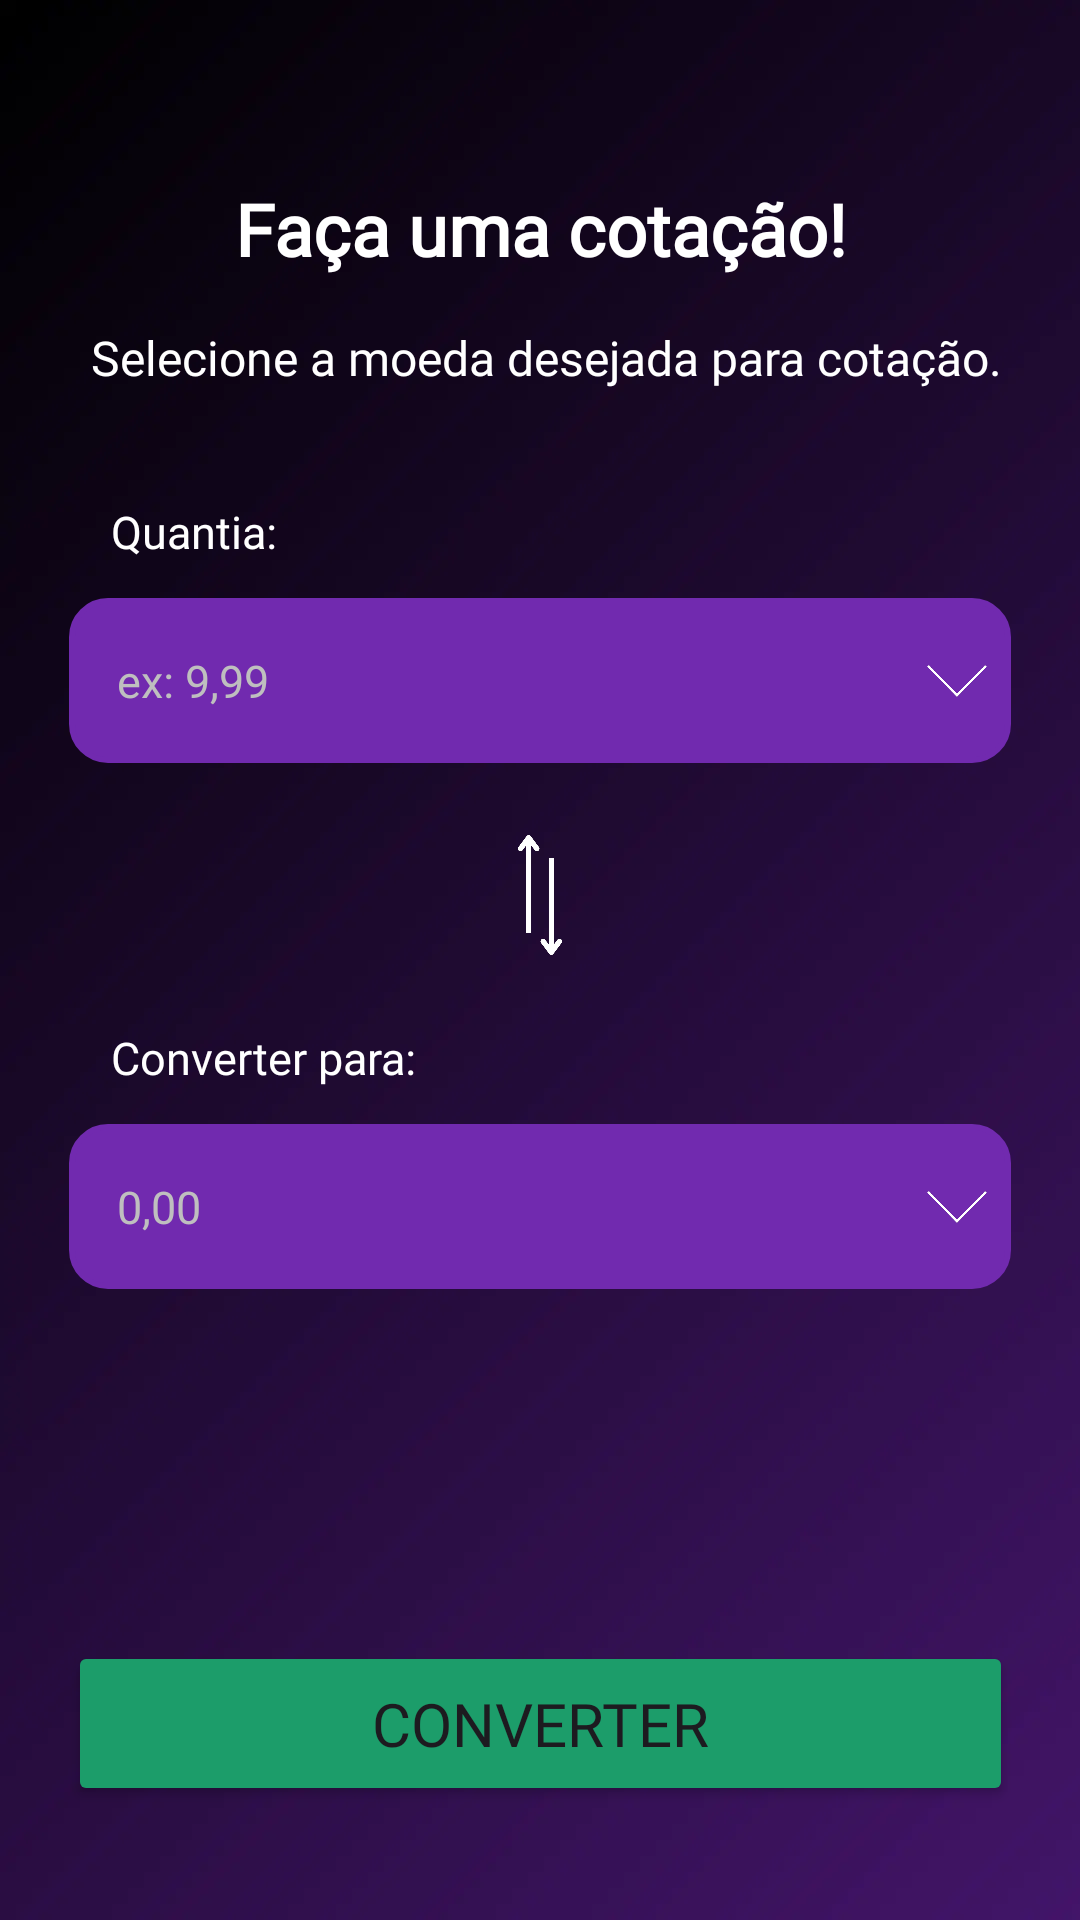

Screen size 1080px x 1920px. Icon name, then its box in pixels as (x1,y1,x2,y2):
seta spinner: (927,665,987,697), (927,1191,987,1223)
